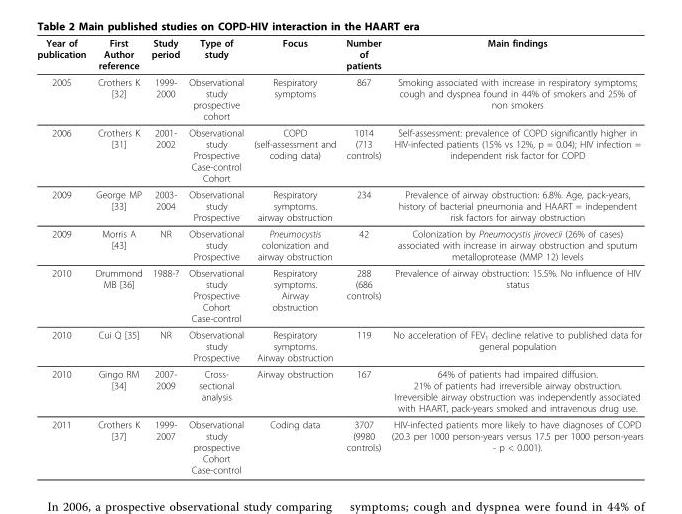table: (36, 36, 642, 475)
table column: (385, 36, 642, 475), (248, 36, 340, 475), (183, 36, 248, 475), (90, 36, 146, 475), (36, 36, 90, 475), (340, 36, 385, 475), (146, 36, 183, 475)
table column header: (36, 36, 642, 73)
table row: (36, 264, 642, 326), (36, 124, 642, 185), (36, 415, 642, 475), (36, 73, 642, 124), (36, 365, 642, 415), (36, 185, 642, 225), (36, 225, 642, 264), (36, 326, 642, 365), (36, 36, 642, 73)
